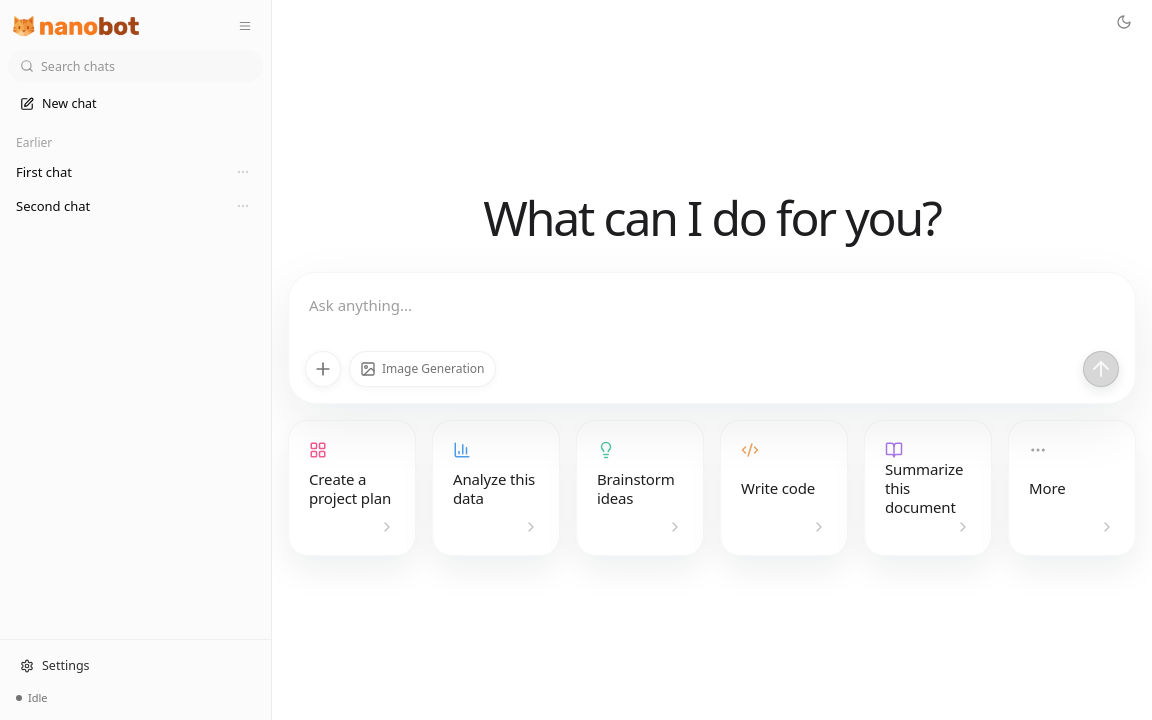
App layout › returns from settings to the blank start page when no session was active
Click the button "New chat": (136, 104) x1=8 y1=88 x2=263 y2=120
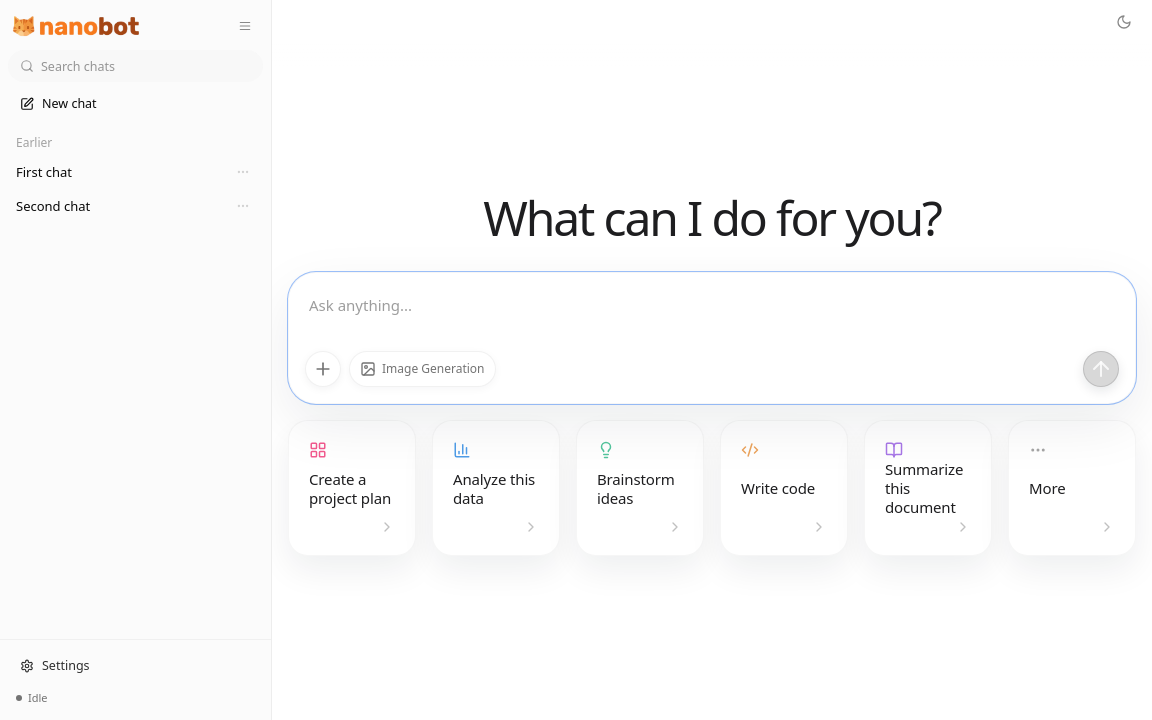
Click the button "Settings": (136, 666) x1=10 y1=650 x2=261 y2=682
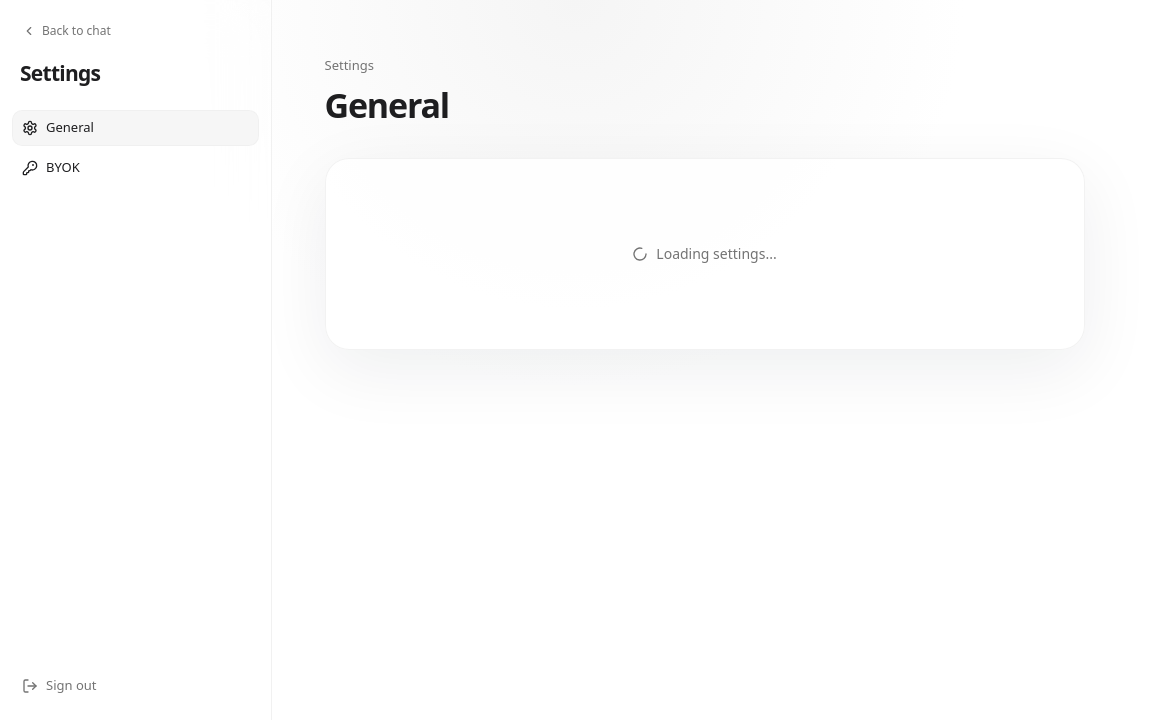
Expected: the heading "General" is shown, x1=324 y1=82 x2=449 y2=128
Click the button "Back to chat": (66, 31) x1=12 y1=16 x2=121 y2=46
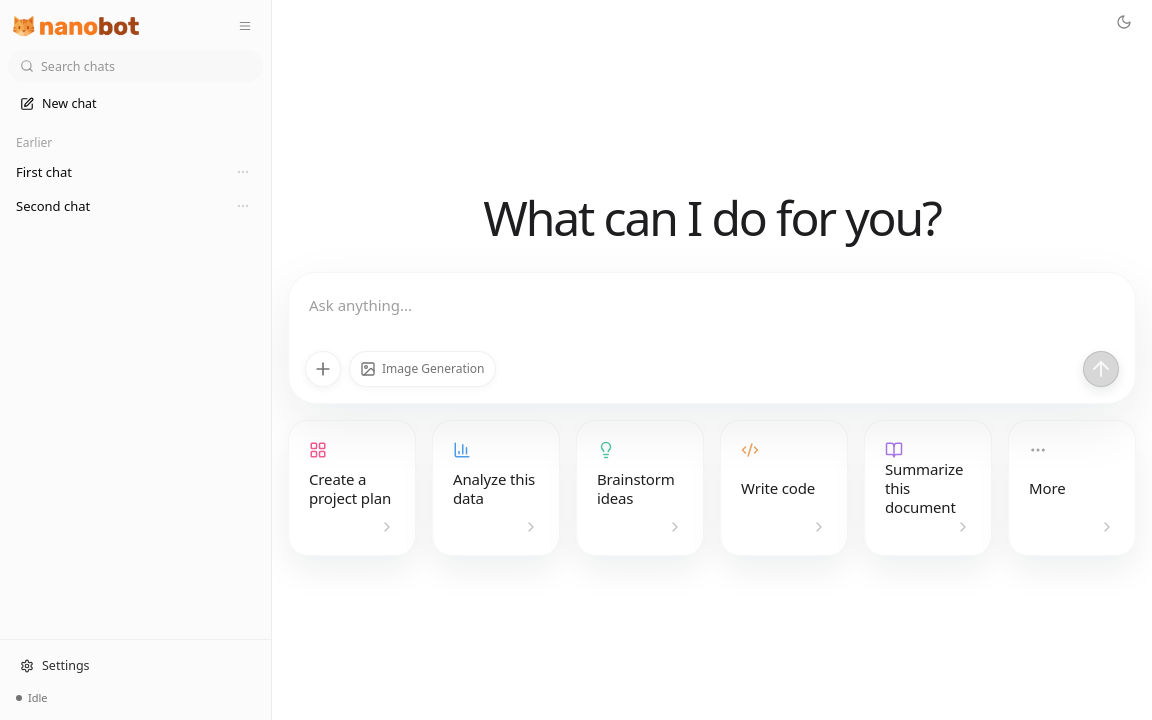
Expected: the heading "What can I do for you?" is shown, x1=483 y1=188 x2=941 y2=248
